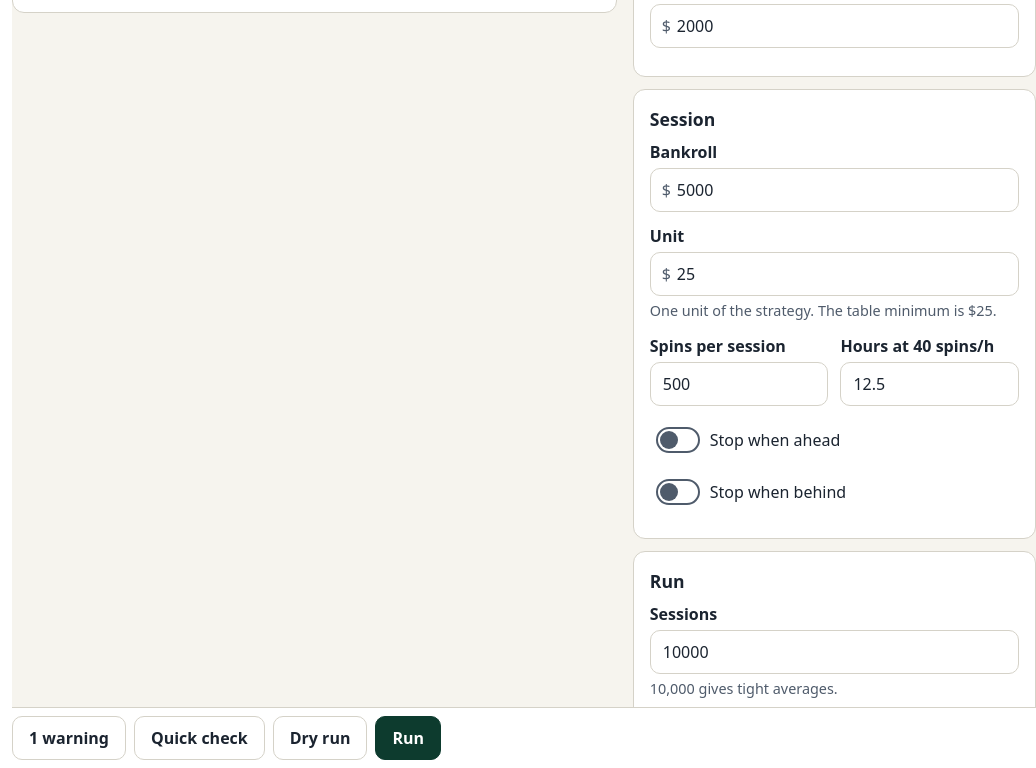
Test: Define structure › converts hours and spins at the pace
The image size is (1036, 768).
(page scrolled)
Step 1. Replace the text in the field with id "hours" with "5" → (930, 384), box [840,362,1019,406]
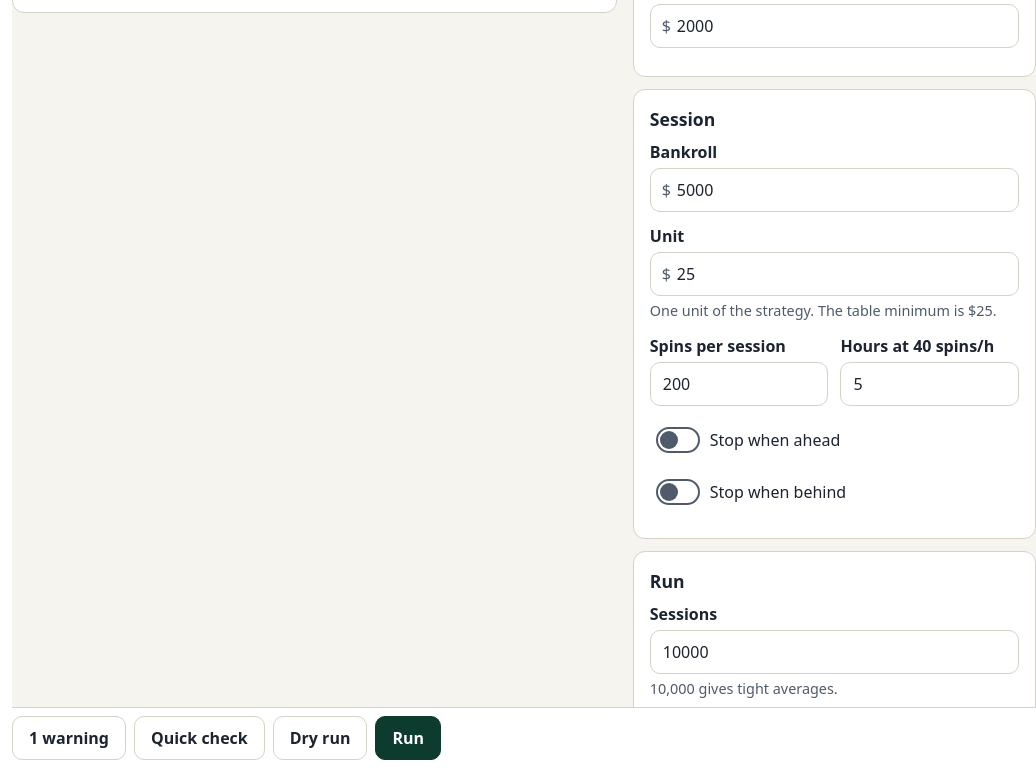
Expected: the field with id "rounds" holds "200", [650,362,828,406]
